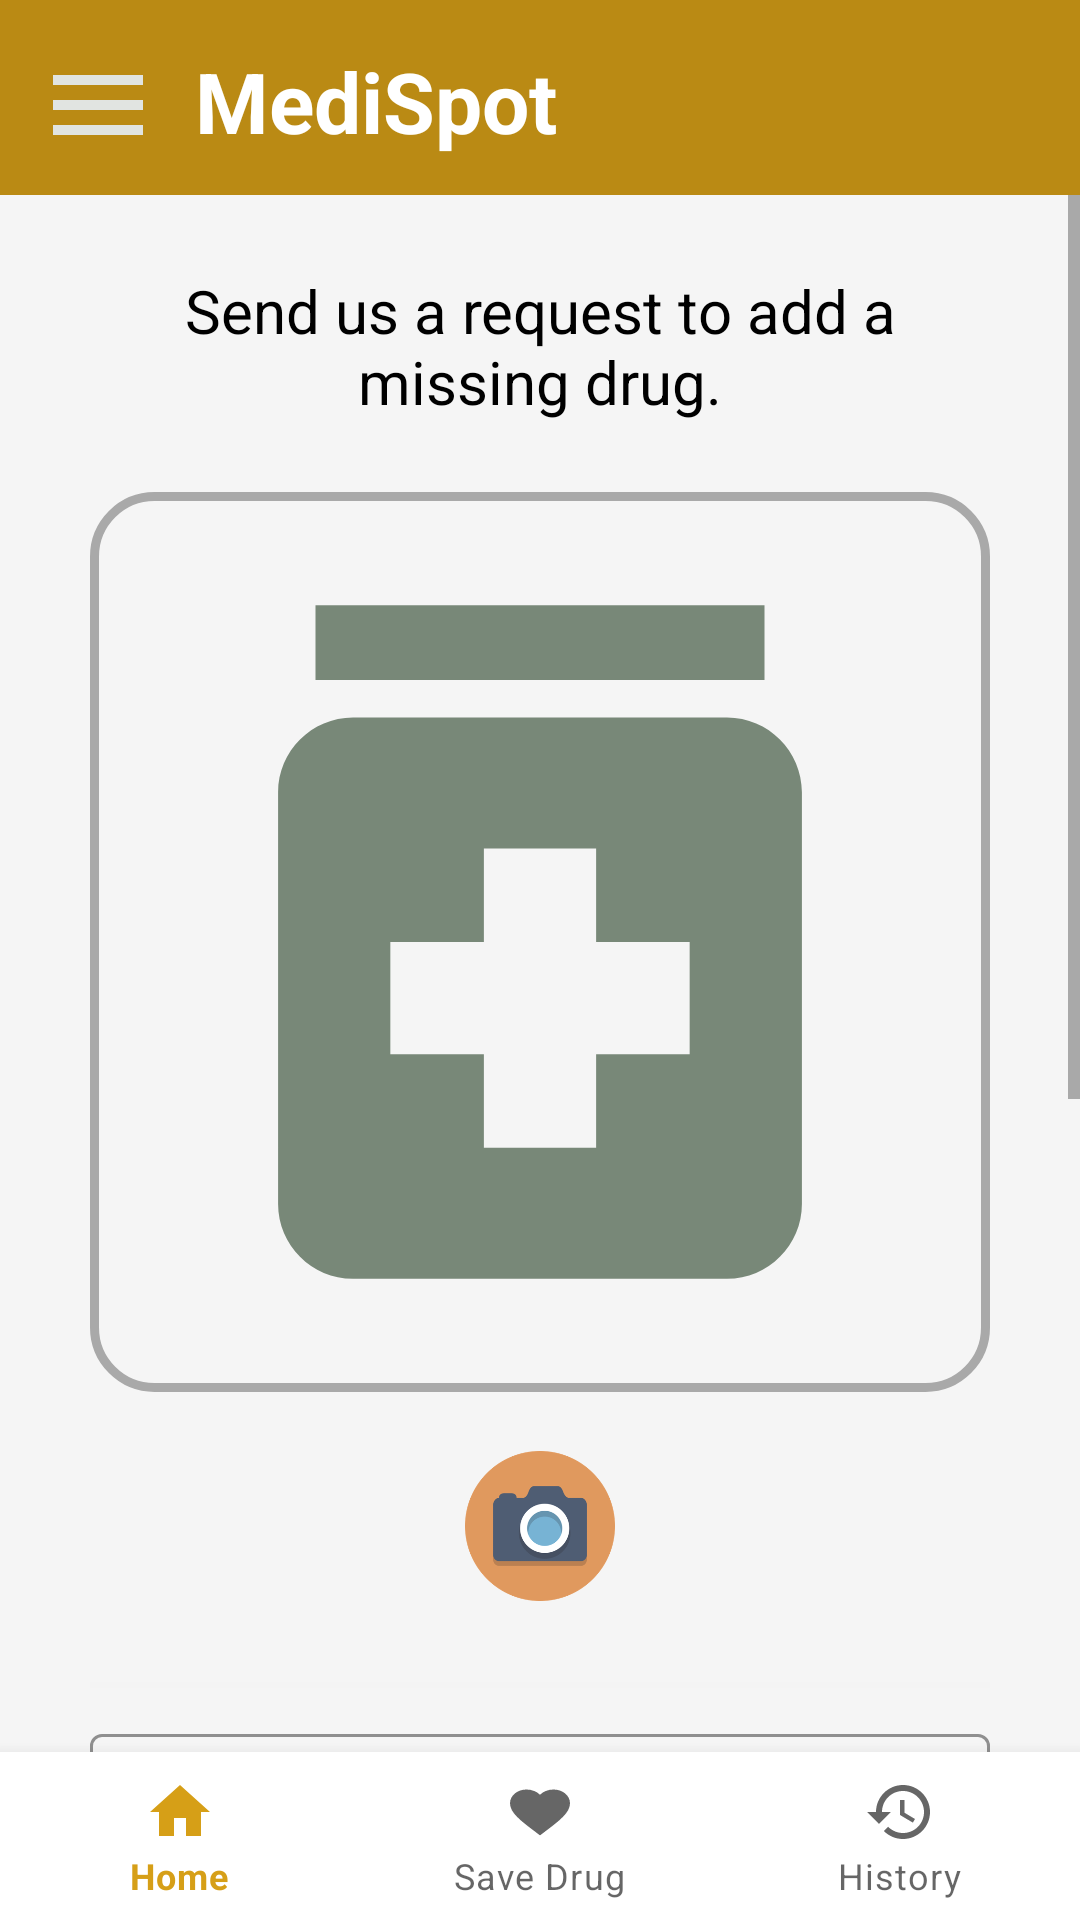

Icons on this 1080px×1920px Android screen, each with the point to tap as (x=x, y=y):
camera: (x=540, y=1526)
menu: (x=98, y=105)
